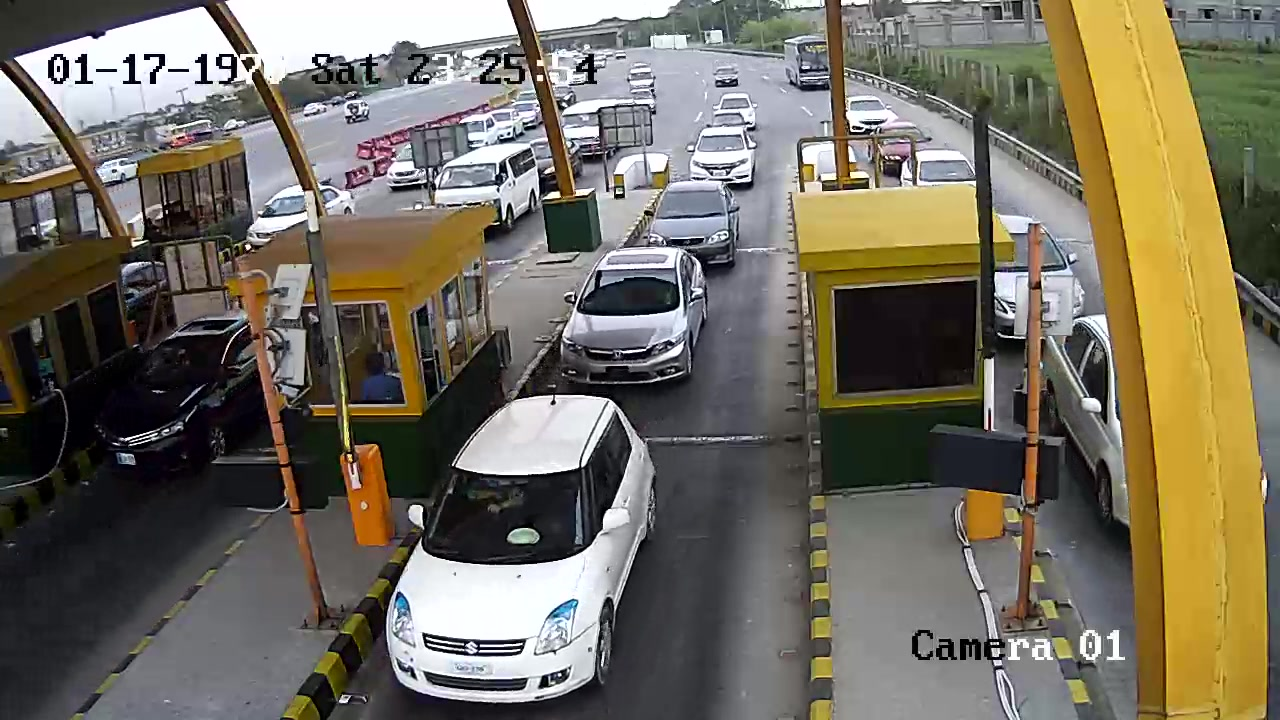F1: (384, 398, 679, 707), (553, 246, 721, 389)
